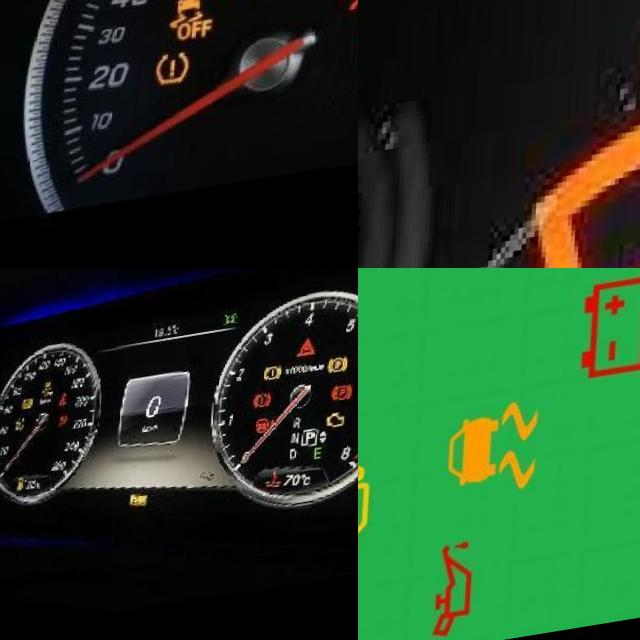Washer Fluid: (528, 0, 640, 268)
